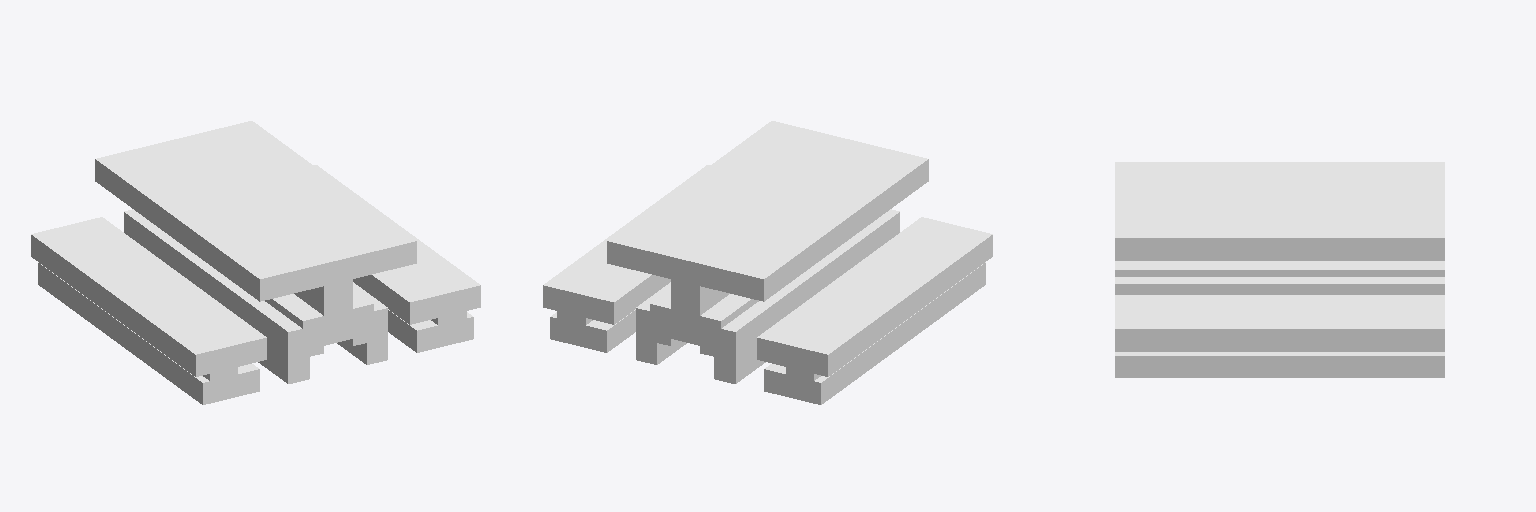
Rendered from mesh_prop_canteen_table.obj.
The picture shows the model from 3 angles: view 1: azimuth 30°, elevation 25°; view 2: azimuth 150°, elevation 25°; view 3: azimuth 270°, elevation 25°; orthographic projection.
Visible parts, largest first — view 1: object 1; view 2: object 1; view 3: object 1.
Part boxes in pixels (x1,y1,x2,y2): object 1: (31,121,480,404); object 1: (543,121,992,404); object 1: (1115,162,1444,377).
Size of the model in its own units: 4 by 1.5 by 4.